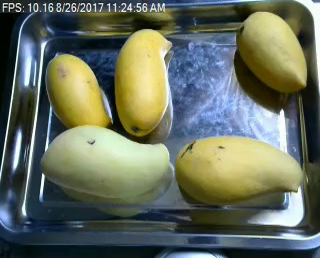Mango: (38, 124, 169, 197), (177, 134, 306, 205), (114, 25, 173, 135), (237, 10, 310, 91), (46, 52, 112, 129)
